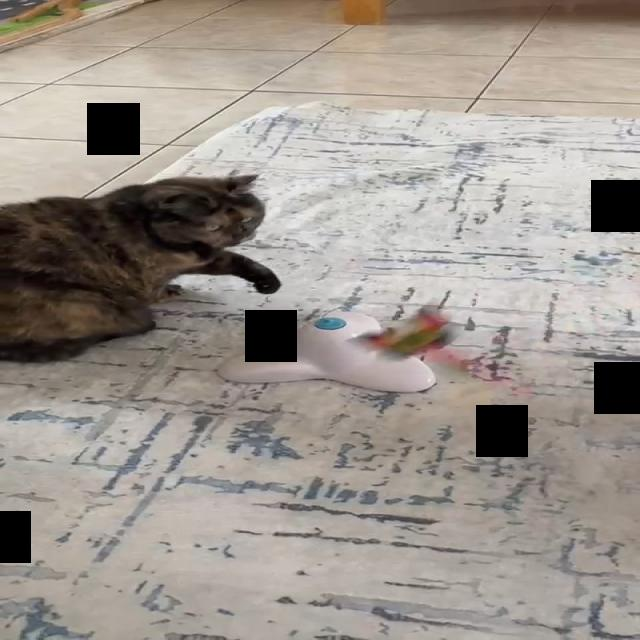authorized: (0, 172, 281, 363)
